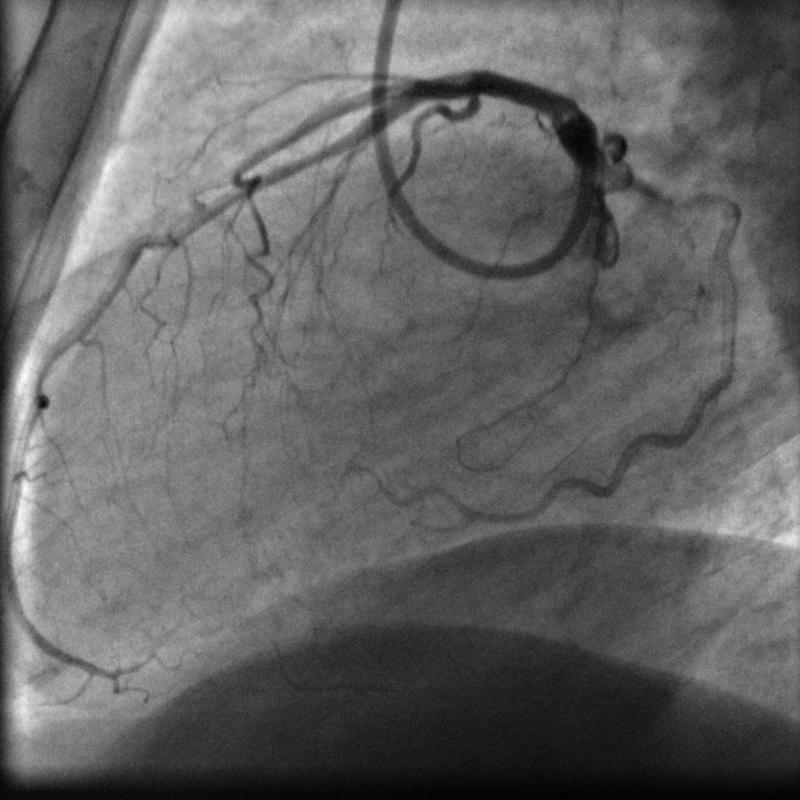Stenosis: (433, 69, 484, 108)
